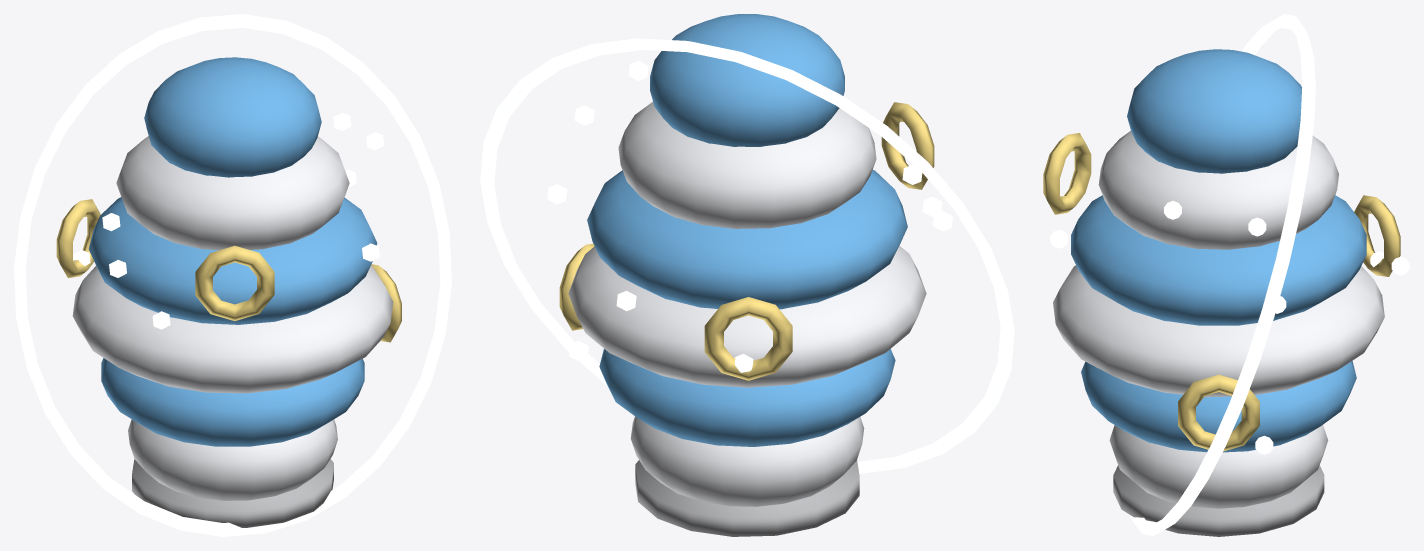
Rendered from egg_lake_10.glb.
3 renders of one model, left to right at view 1: azimuth 30°, elevation 25°; view 2: azimuth 150°, elevation 25°; view 3: azimuth 270°, elevation 25°, orthographic. The views are drawn at different scales.
Parts seen in each view (by area): view 1: ball; view 2: ball; view 3: ball.
Part boxes in pixels (x1,y1,x2,y2): ball: (14,14,451,536); ball: (480,14,1014,536); ball: (1043,14,1409,536).
Bounding box in the file's own units: 1.12 × 1.06 × 0.7636.
